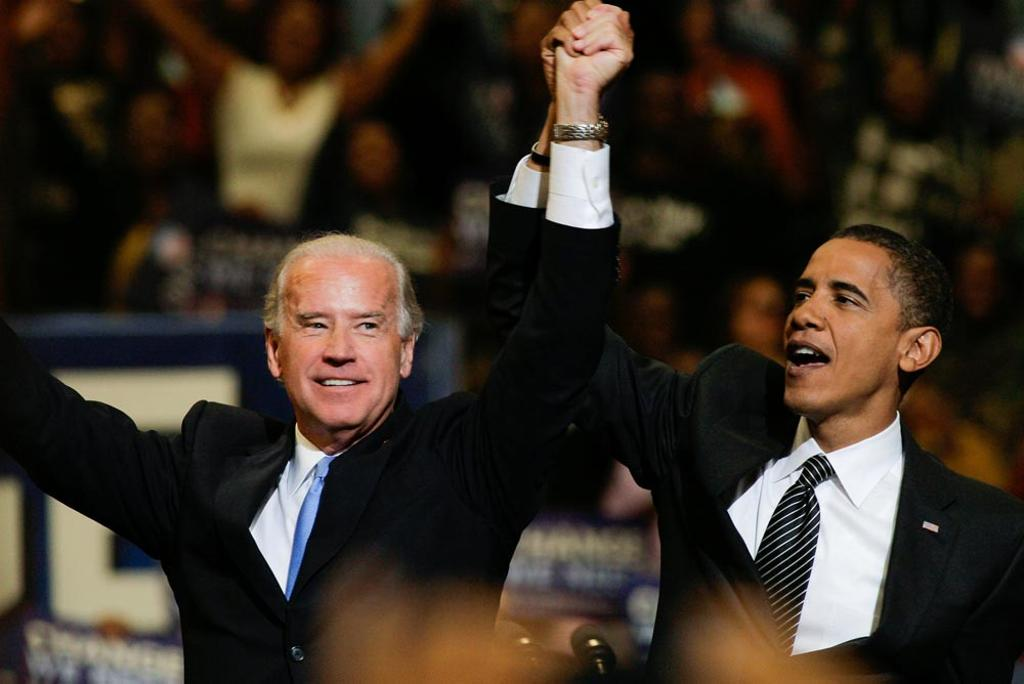face: (282, 258, 396, 426), (788, 238, 900, 408)
